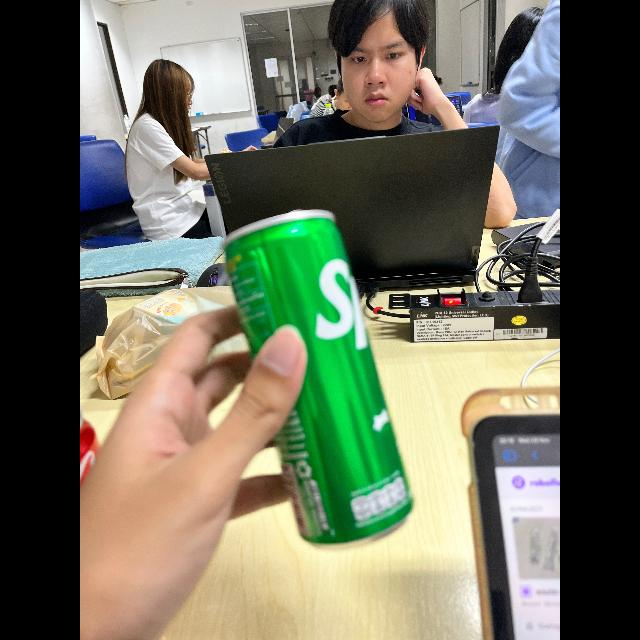can: (207, 207, 433, 549)
